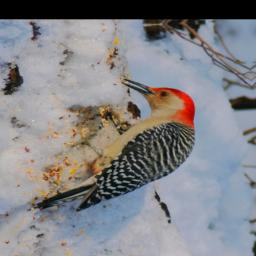Woodpecker: (13, 74, 207, 218)
